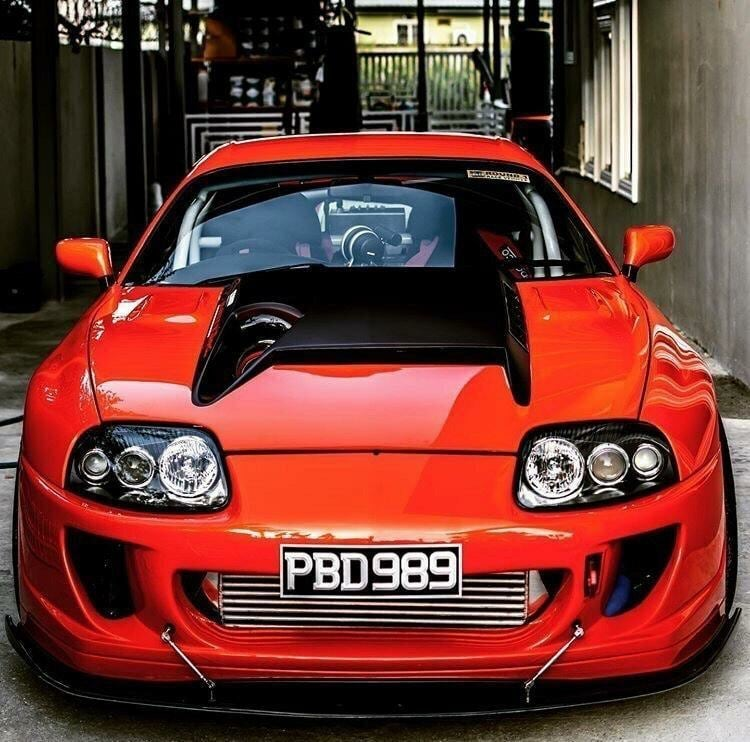License-Plate: (279, 543, 460, 595)
